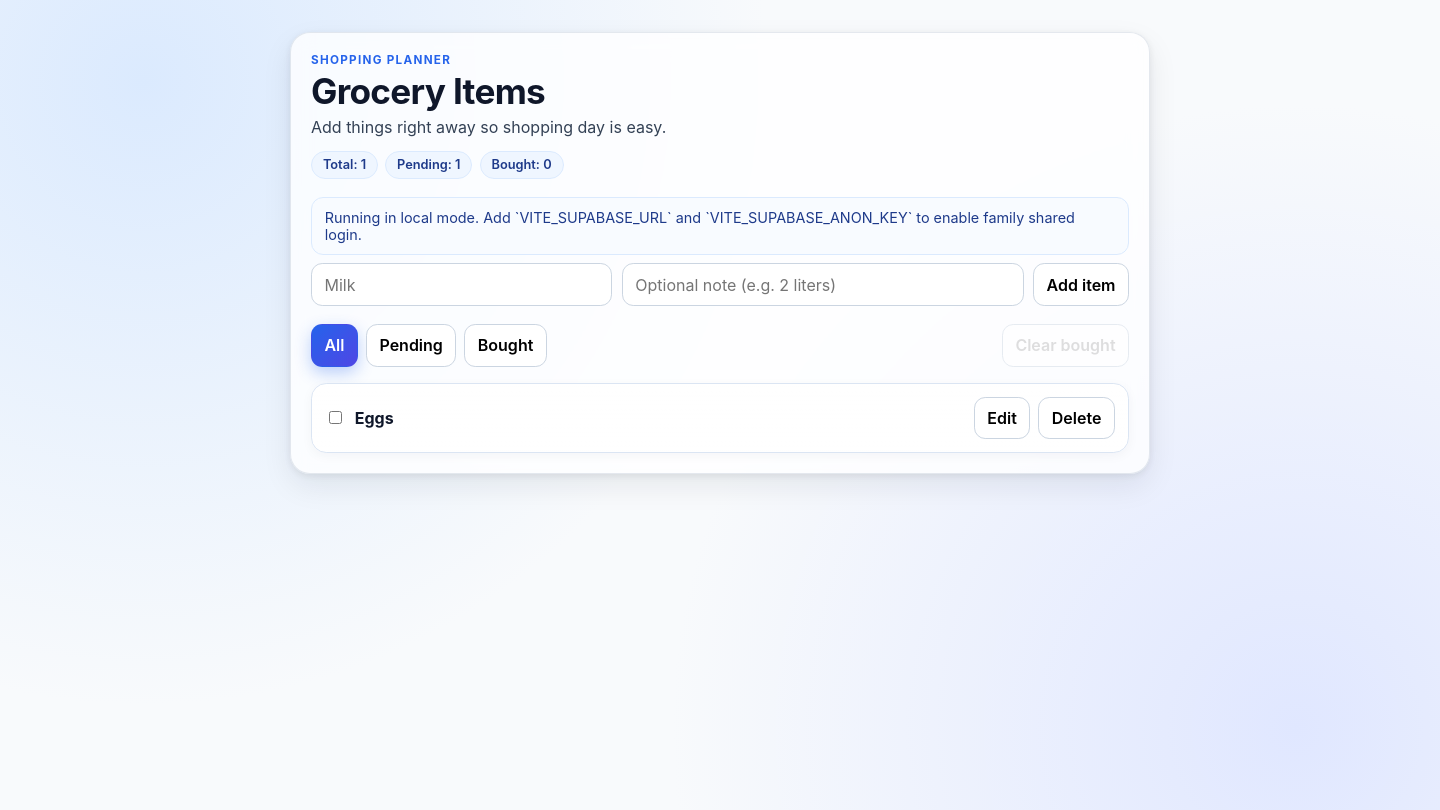
Test: Grocery App › toggles item bought state and can filter
Click the checkbox: (336, 418) [329,411,342,424]
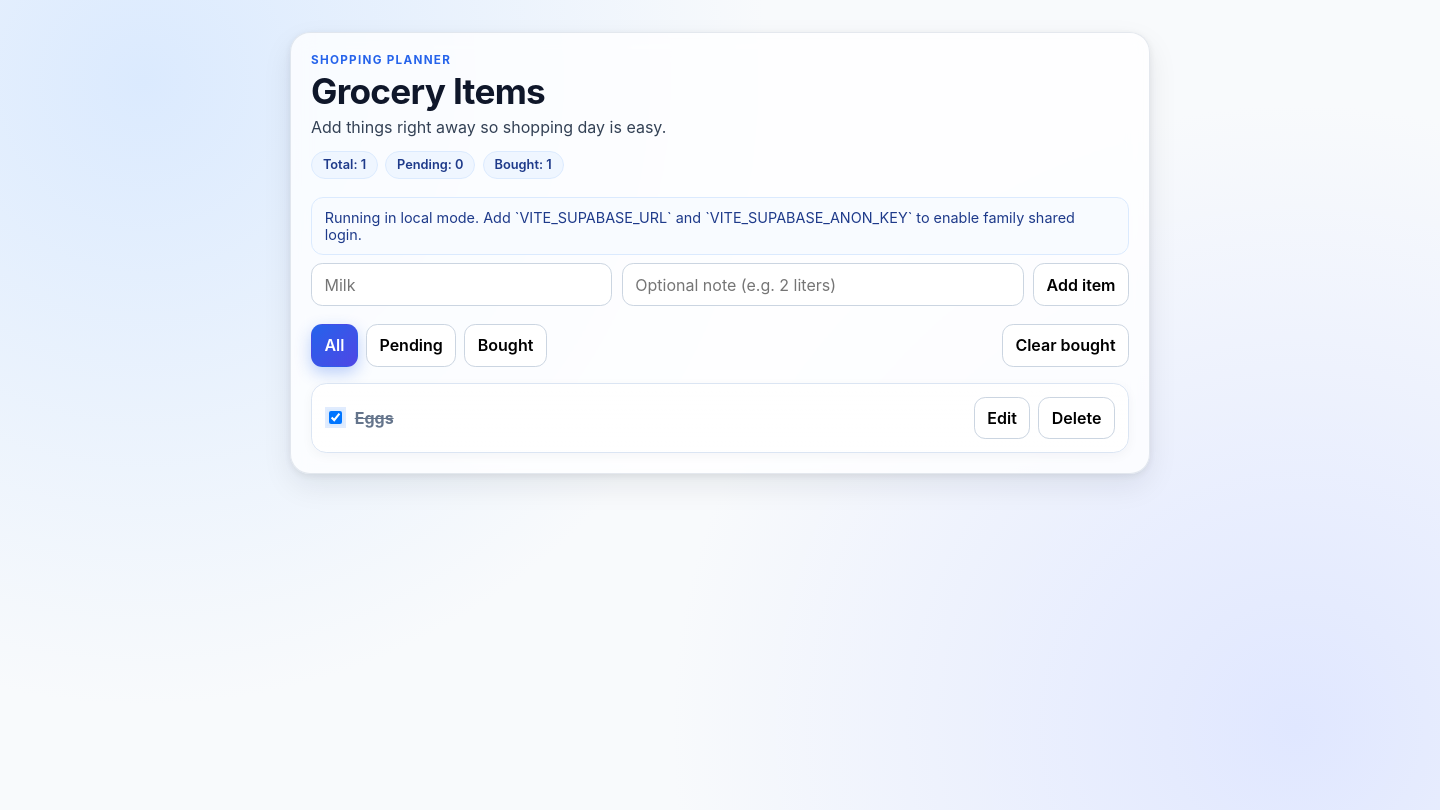
Click the button "Bought": (506, 345) [464,324,547,367]
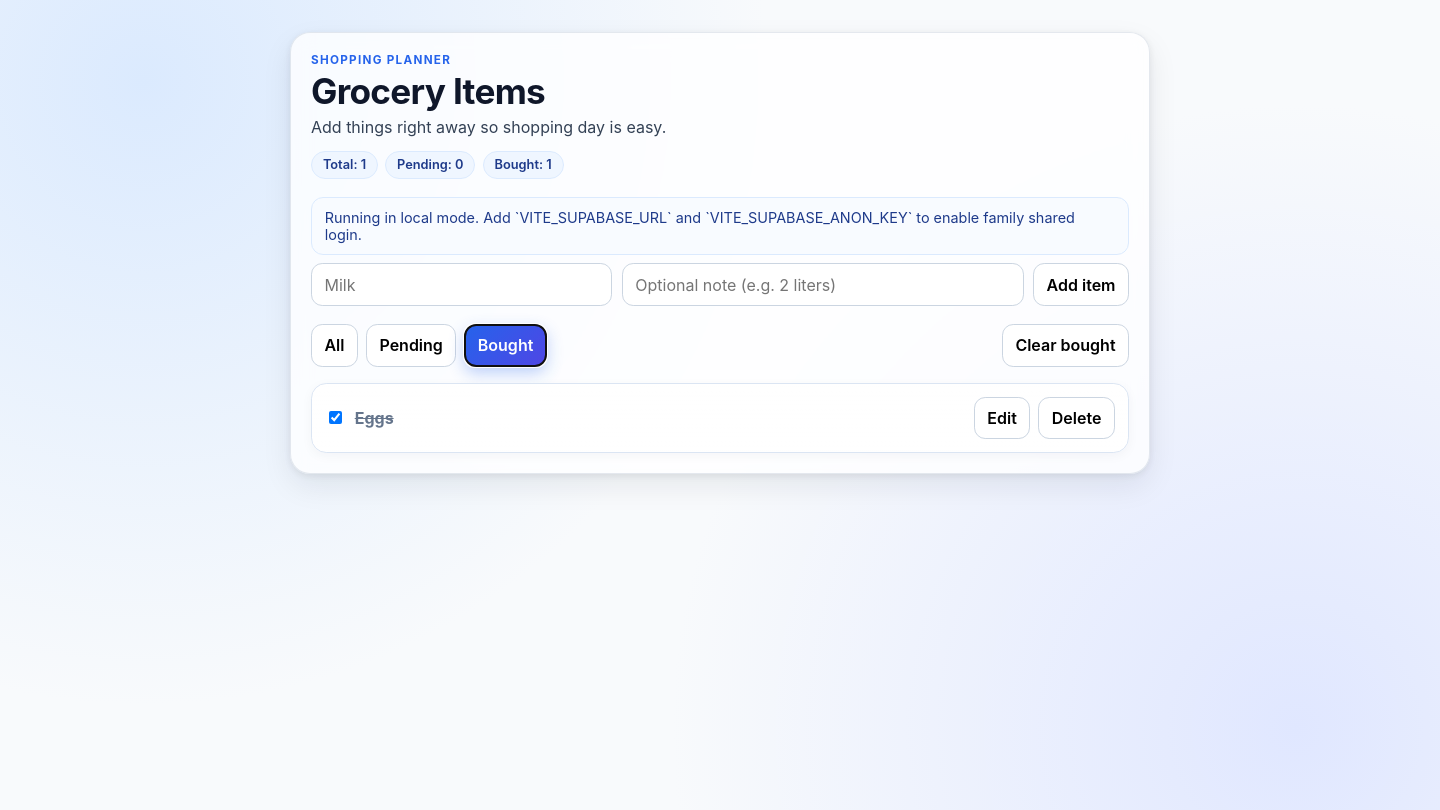
Expected: the text "Eggs" is shown, [355,408,394,428]
Click the button "Pending": (411, 345) [366,324,456,367]
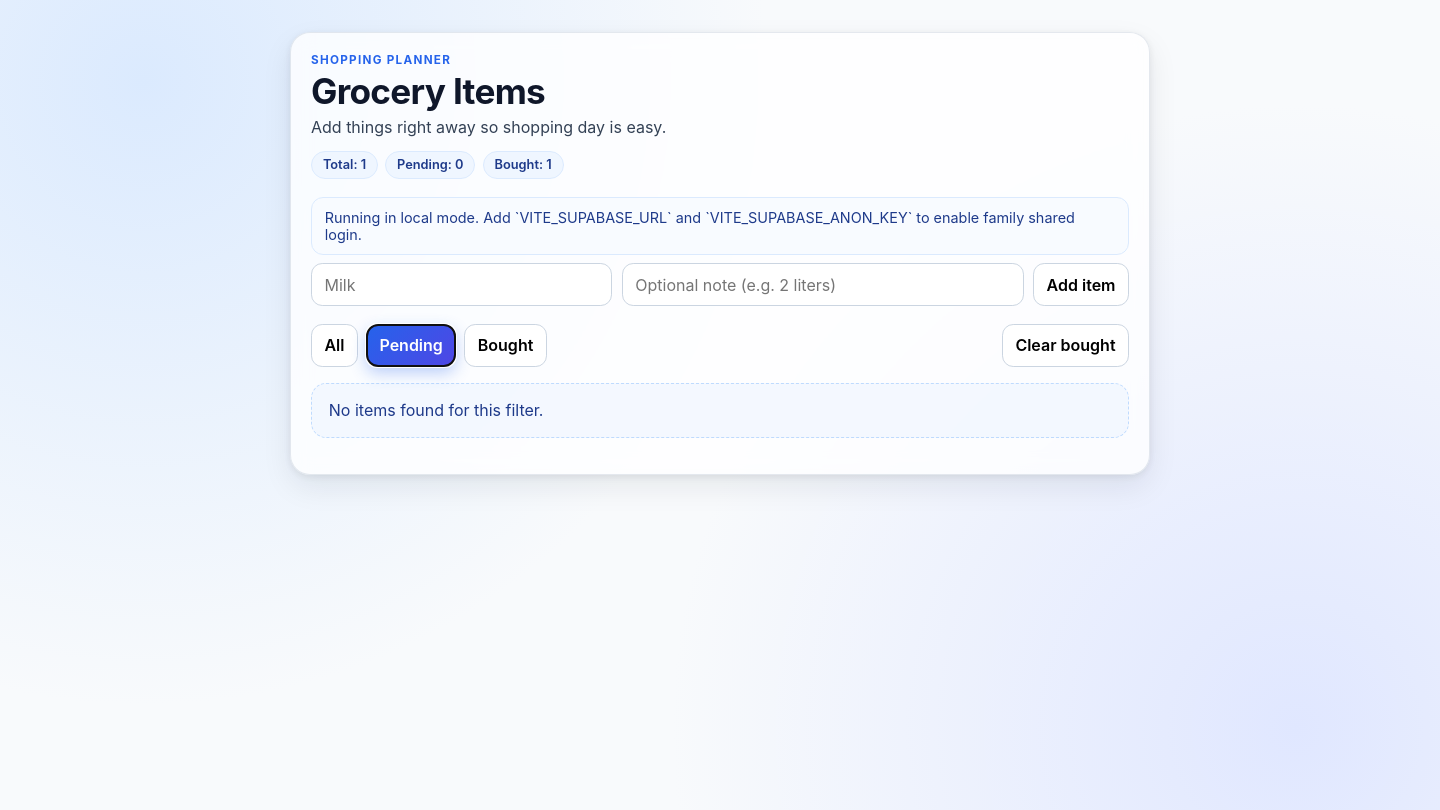
Now the text "Eggs" is gone
